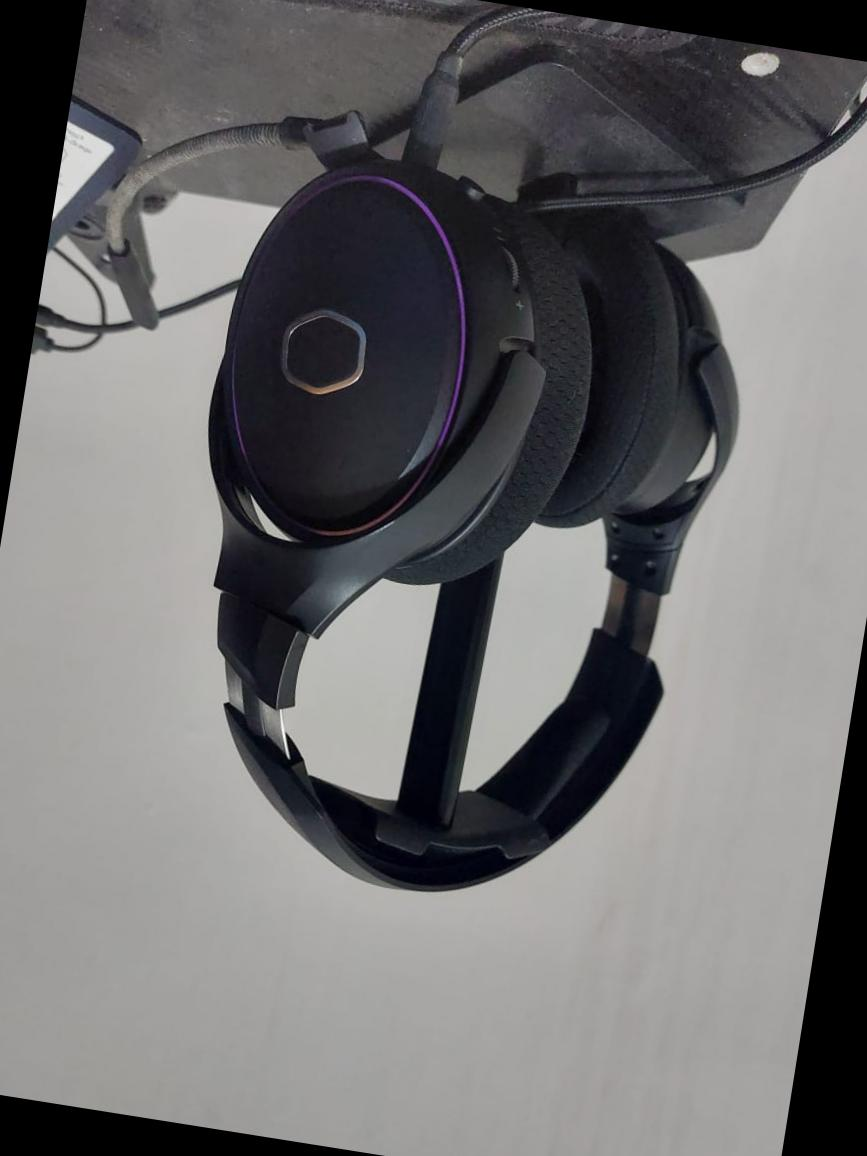Headset: (0, 70, 809, 949)
